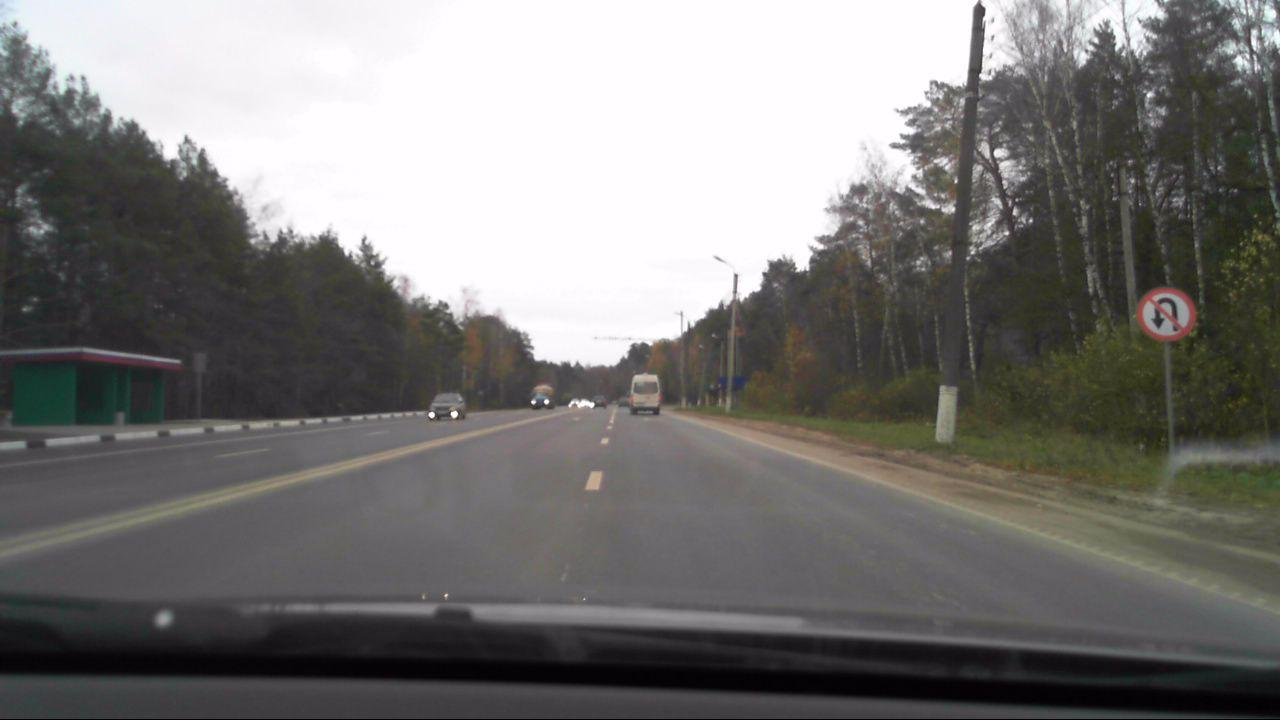3_19: (1129, 283, 1199, 345)
